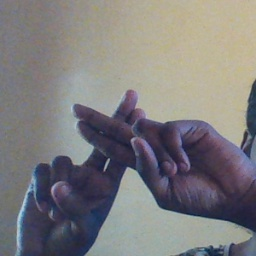F: (52, 84, 176, 199)
